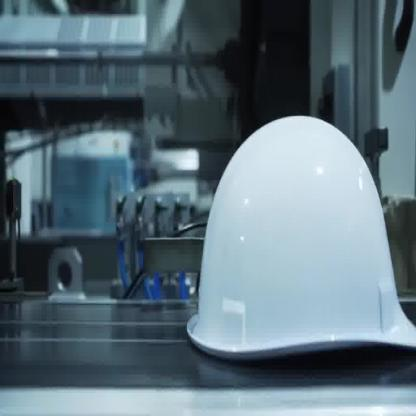helmet: (185, 114, 415, 360)
